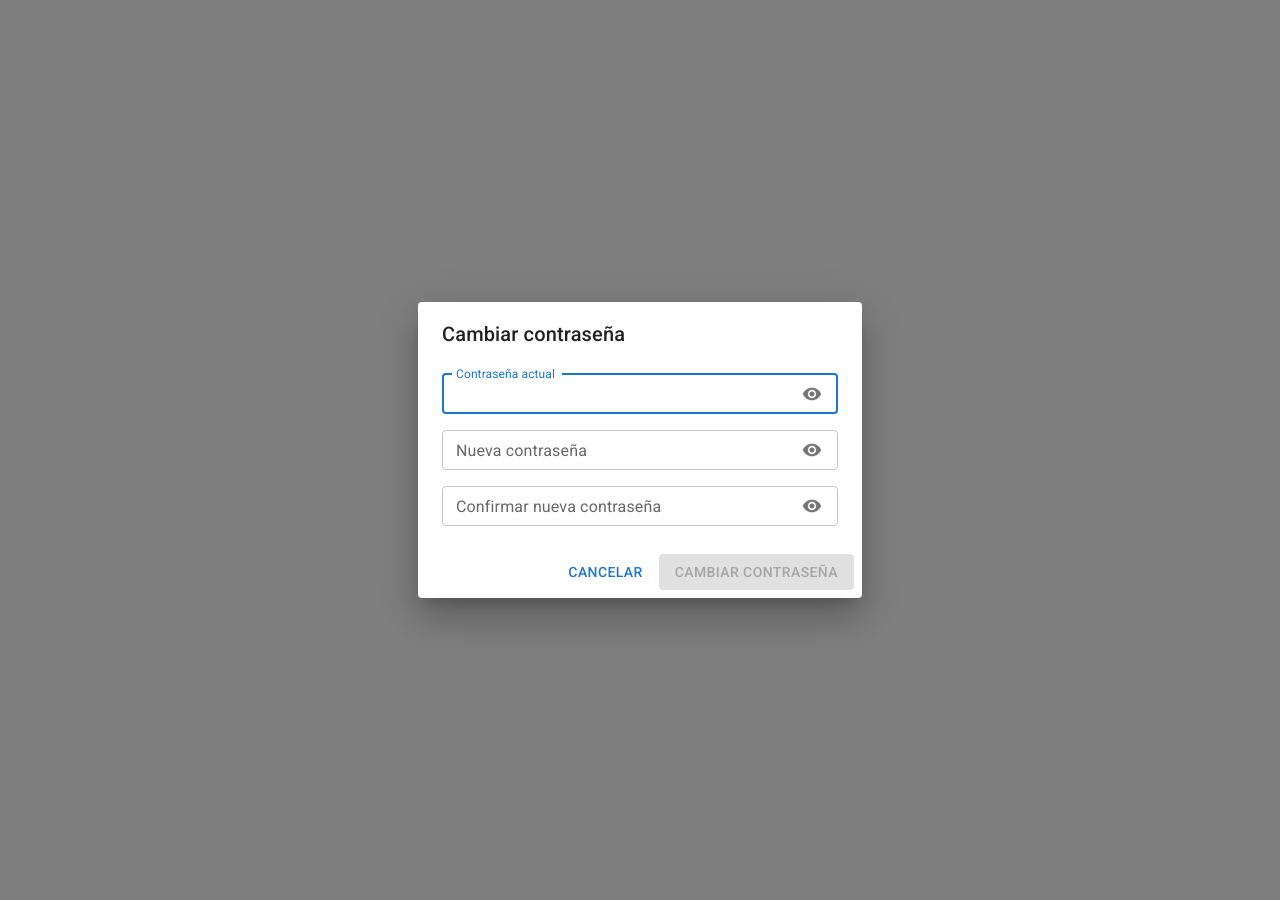
Test: ChangePasswordDialog › shows success message after password change
The image size is (1280, 900).
Type "oldpass123" into the password field labelled "Contraseña actual" at (616, 394), box [442,374,789,414]
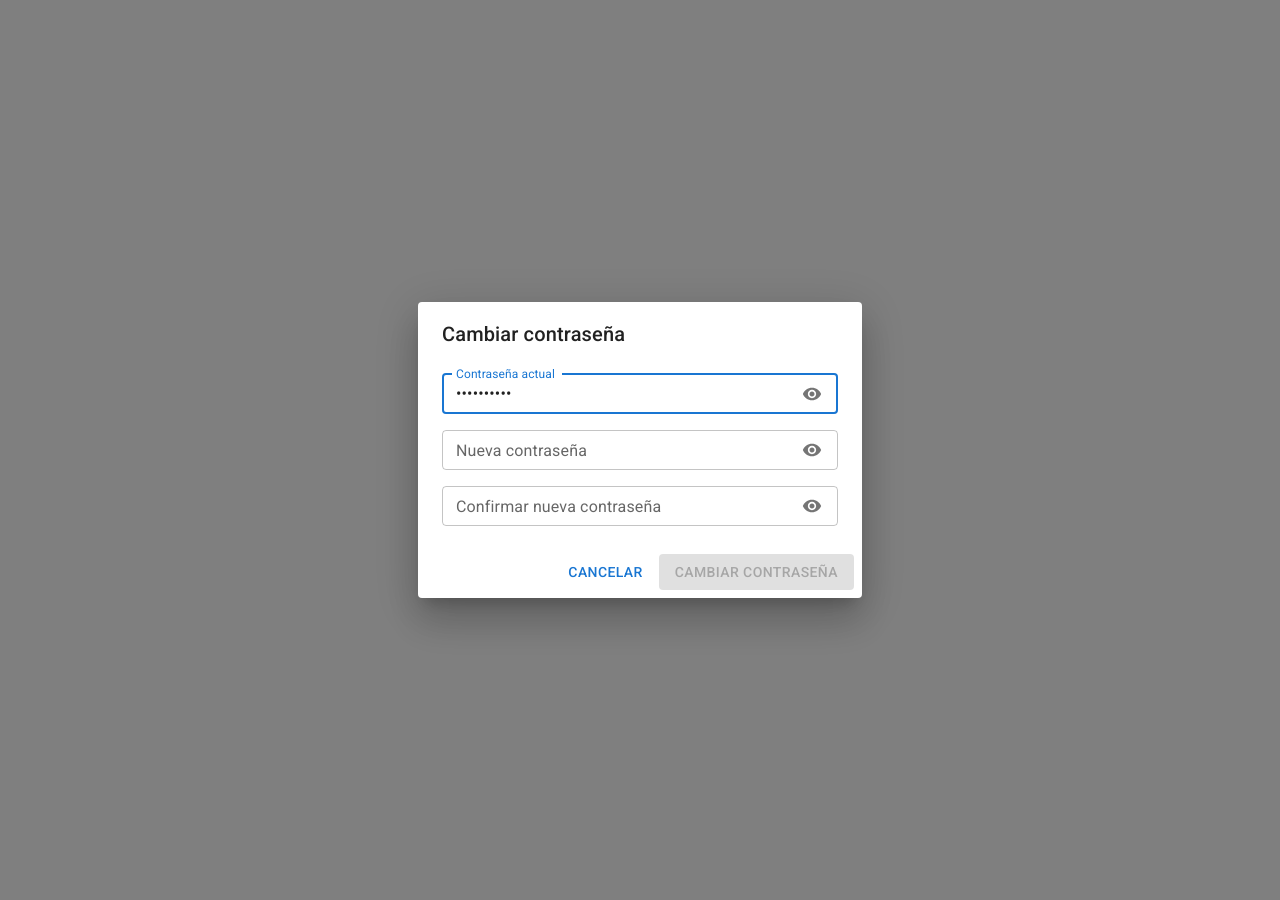
Type "NewPass1!" into the password field labelled "Nueva contraseña" at (616, 450), box [442,430,789,470]
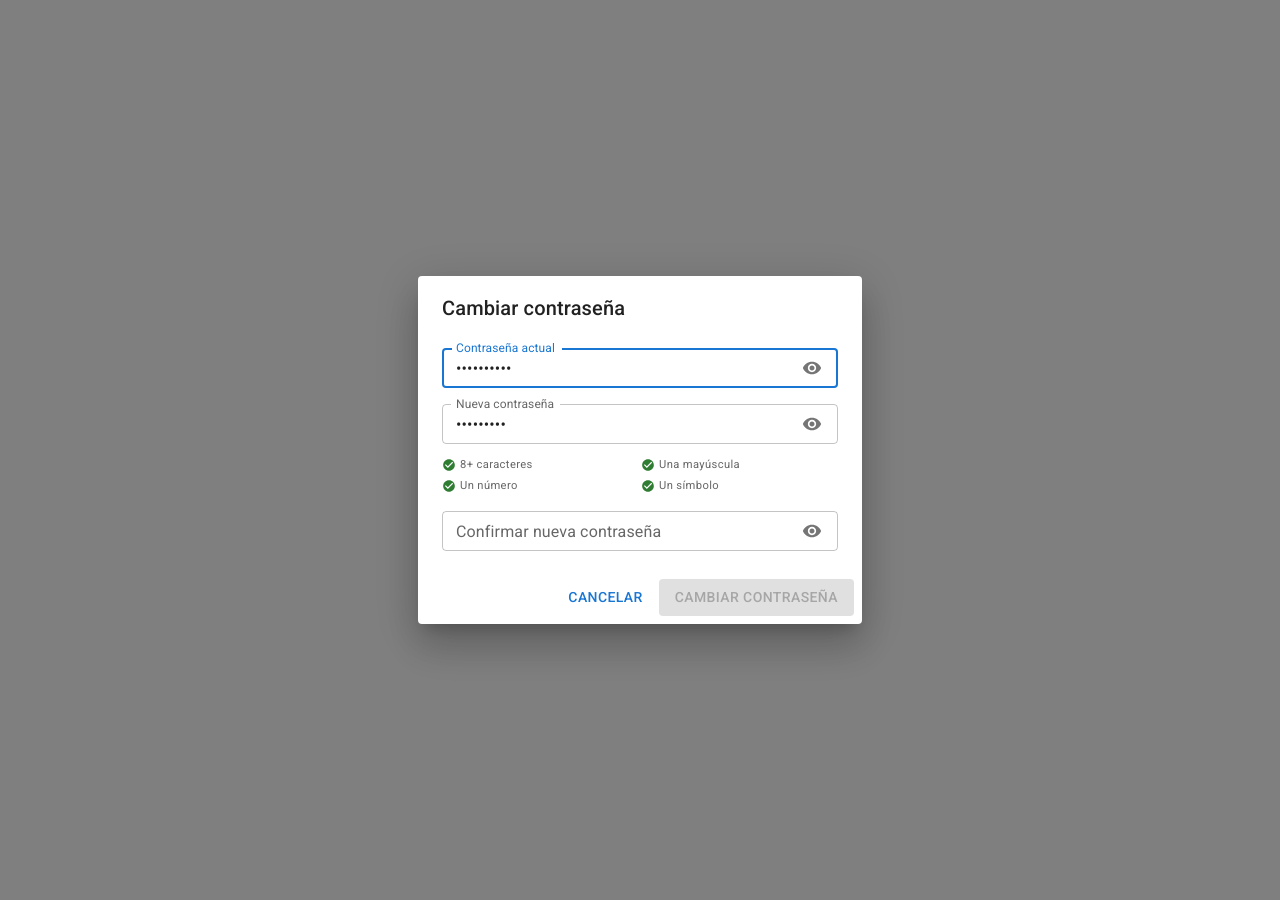
Type "NewPass1!" into the password field labelled "Confirmar nueva contraseña" at (616, 531), box [442,511,789,551]
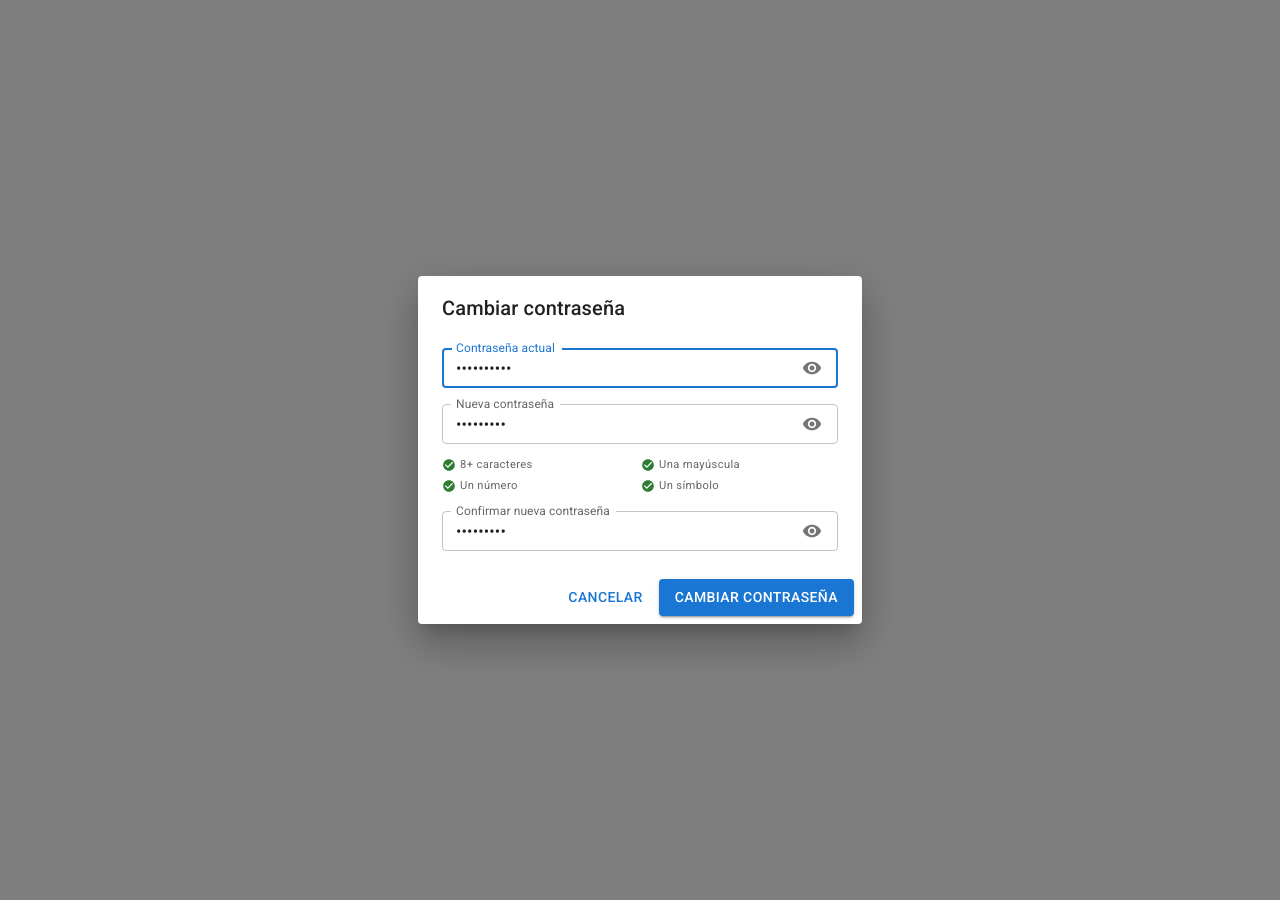
Click the button "Cambiar contraseña" at (756, 598), box [659,579,854,616]
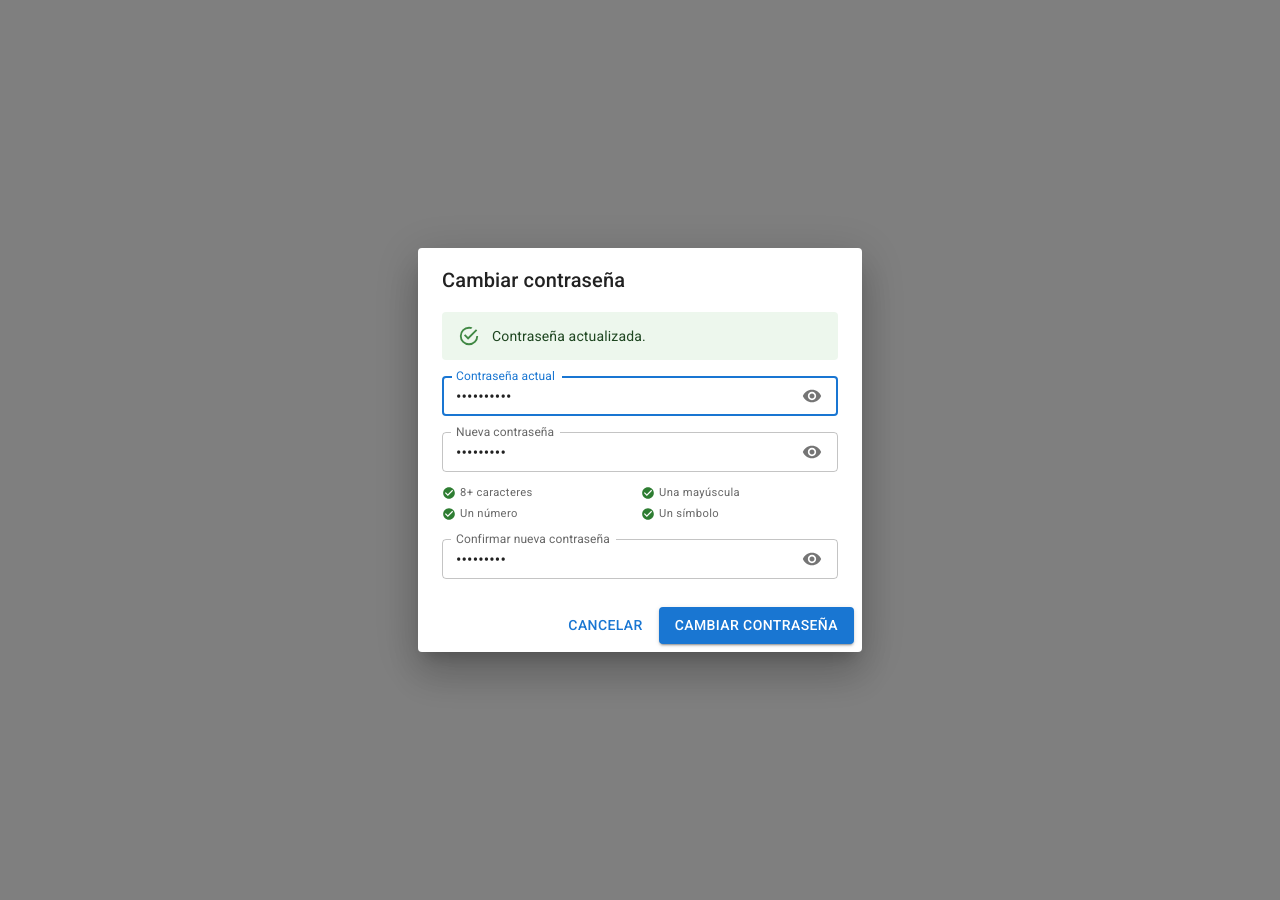
Check: the text "Contraseña actualizada." is shown, box [492,328,646,344]
